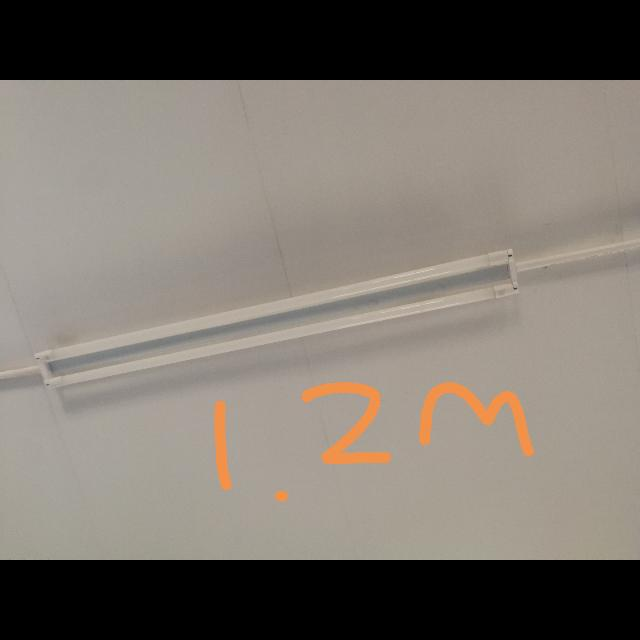Straight-Tube-Fluorescent-Lamp: (30, 234, 522, 396)
